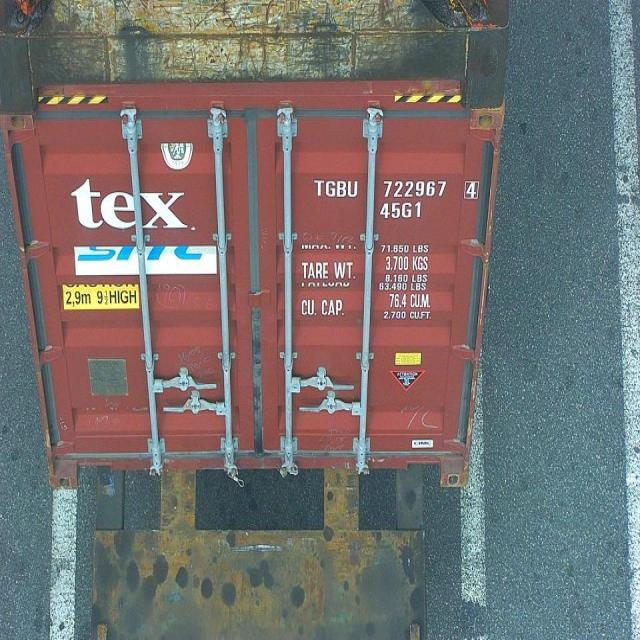ISO: (379, 200, 423, 220)
container_number: (315, 177, 477, 199)
